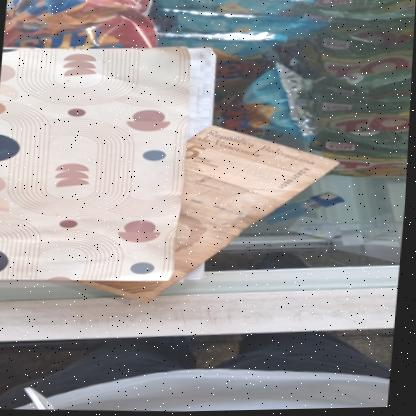five-front-vef: (71, 119, 344, 313)
